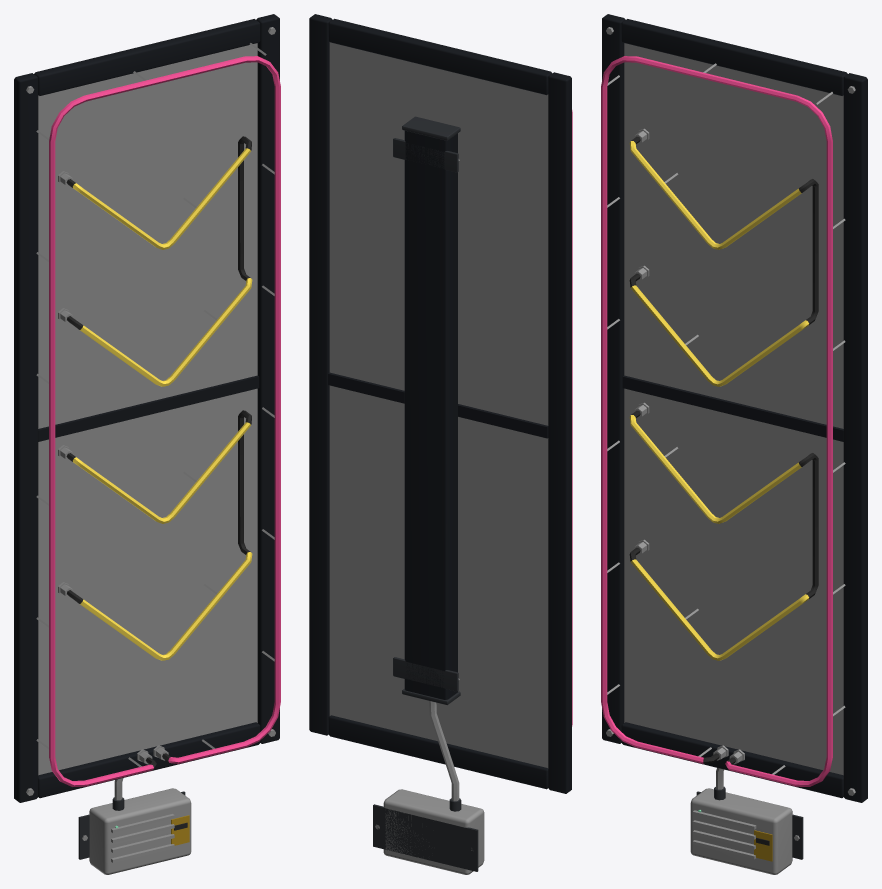
The model's file is Neon_Arrow_Down.fbx.
3 renders of one model, left to right at view 1: azimuth 30°, elevation 25°; view 2: azimuth 150°, elevation 25°; view 3: azimuth 330°, elevation 25°, orthographic.
Parts seen in each view (by area): view 1: Neon_Arrow_Down_LOD0; view 2: Neon_Arrow_Down_LOD0; view 3: Neon_Arrow_Down_LOD0.
Part boxes in pixels (x1=…): Neon_Arrow_Down_LOD0: x1=14, y1=14, x2=280, y2=874; Neon_Arrow_Down_LOD0: x1=309, y1=14, x2=572, y2=874; Neon_Arrow_Down_LOD0: x1=601, y1=14, x2=867, y2=874.
Size of what is drawn, in the model's own units: 0.72 by 2.15 by 0.1695.
